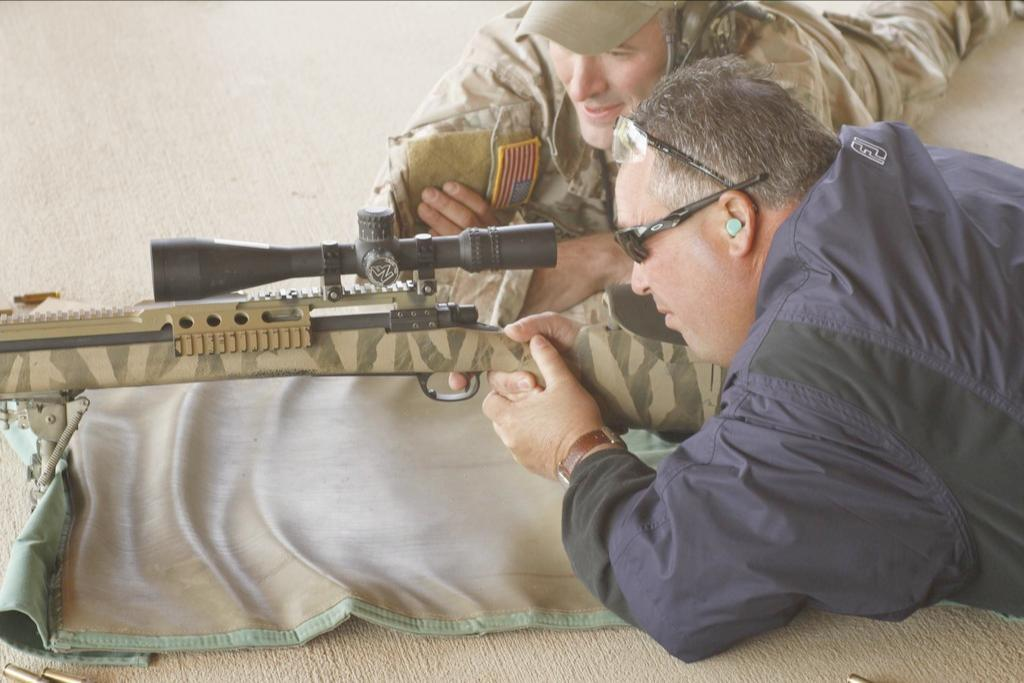gun: (0, 212, 700, 430)
